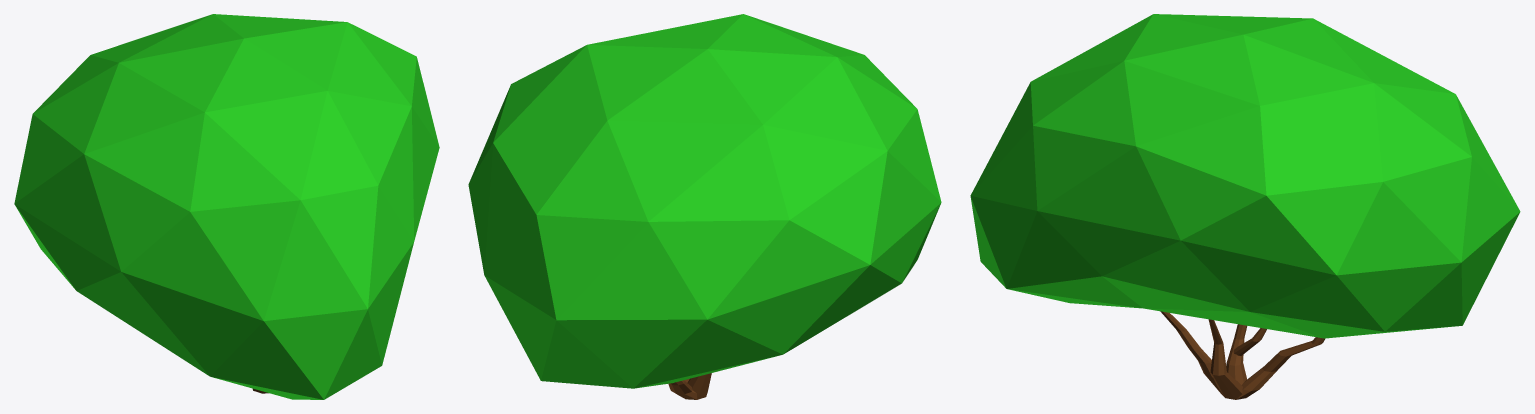
File: bush_1.fbx
The picture shows the model from 3 angles, left to right: view 1: azimuth 30°, elevation 25°; view 2: azimuth 150°, elevation 25°; view 3: azimuth 270°, elevation 25°; orthographic projection.
Visible parts, largest first — view 1: bush_1; view 2: bush_1; view 3: bush_1.
Boxes of the visible parts, <box> form: bush_1: <box>14,14,439,399</box>; bush_1: <box>468,14,941,399</box>; bush_1: <box>970,14,1520,399</box>.
Size of the model in its own units: 134 by 116 by 165.
1 material, 1 textured.
